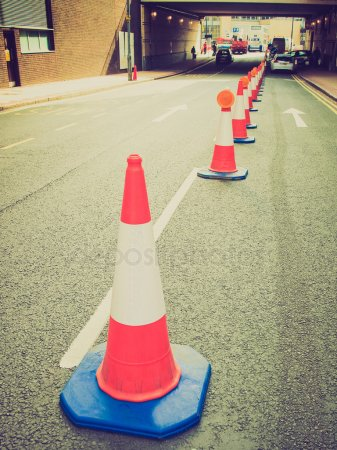cone: (61, 154, 212, 441), (197, 88, 248, 181), (223, 82, 260, 144)
